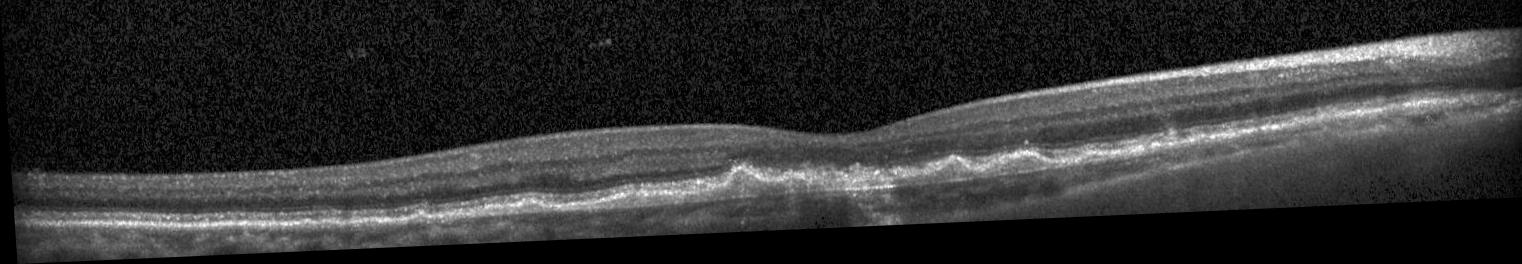retinal_drusen: (590, 173, 850, 211), (892, 167, 975, 194), (979, 165, 1045, 186), (483, 202, 543, 217), (404, 216, 427, 226)
